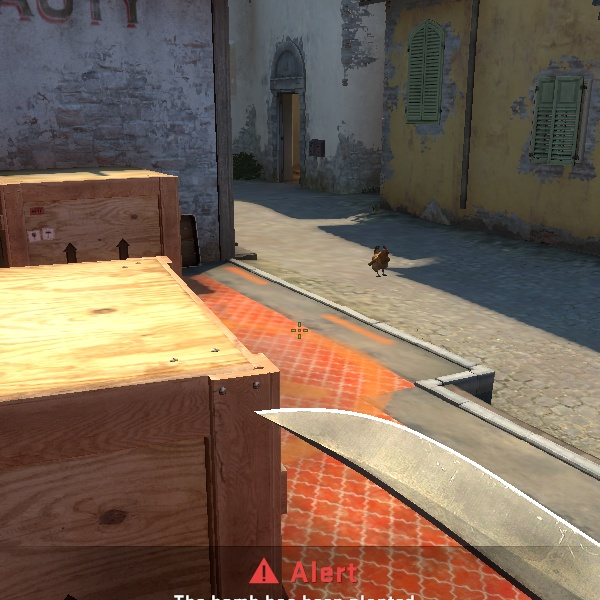t_body: (366, 242, 395, 274)
